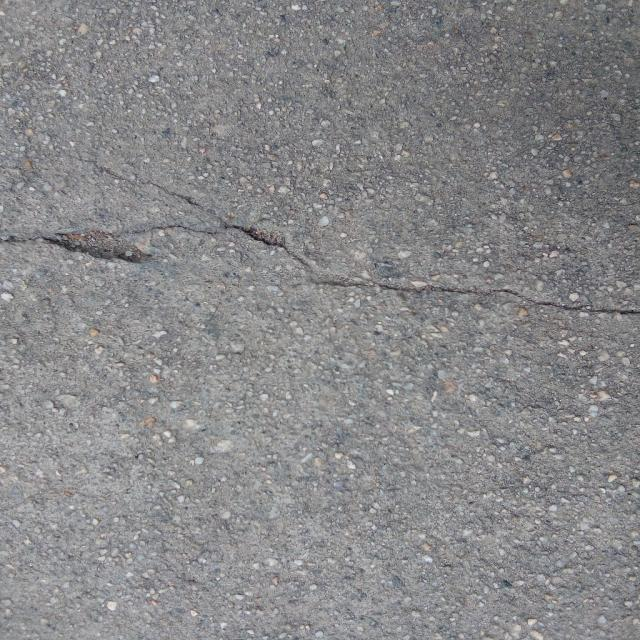cracks: (0, 198, 640, 334)
